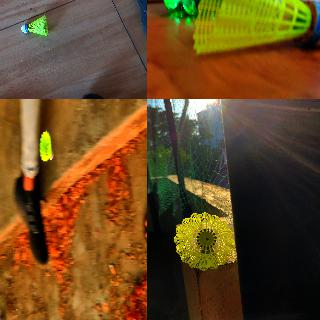shuttlecock: (193, 0, 319, 57), (174, 212, 234, 270), (22, 16, 48, 36), (39, 129, 53, 162)
